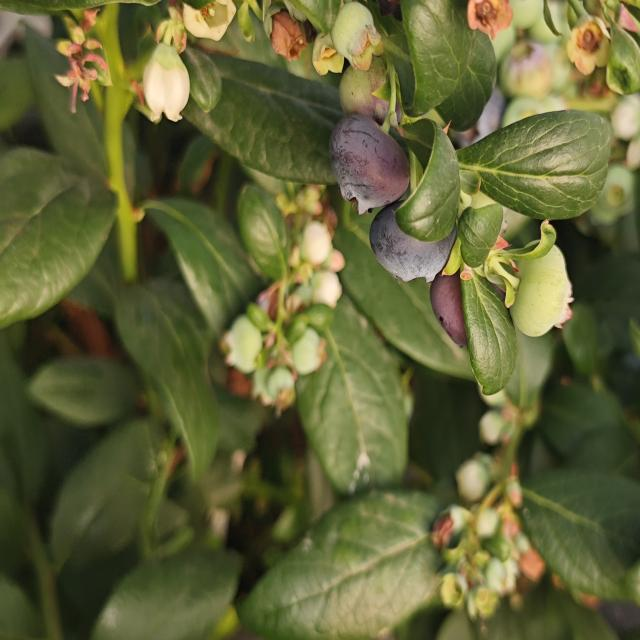ripe: (332, 107, 415, 214), (372, 206, 453, 286)
